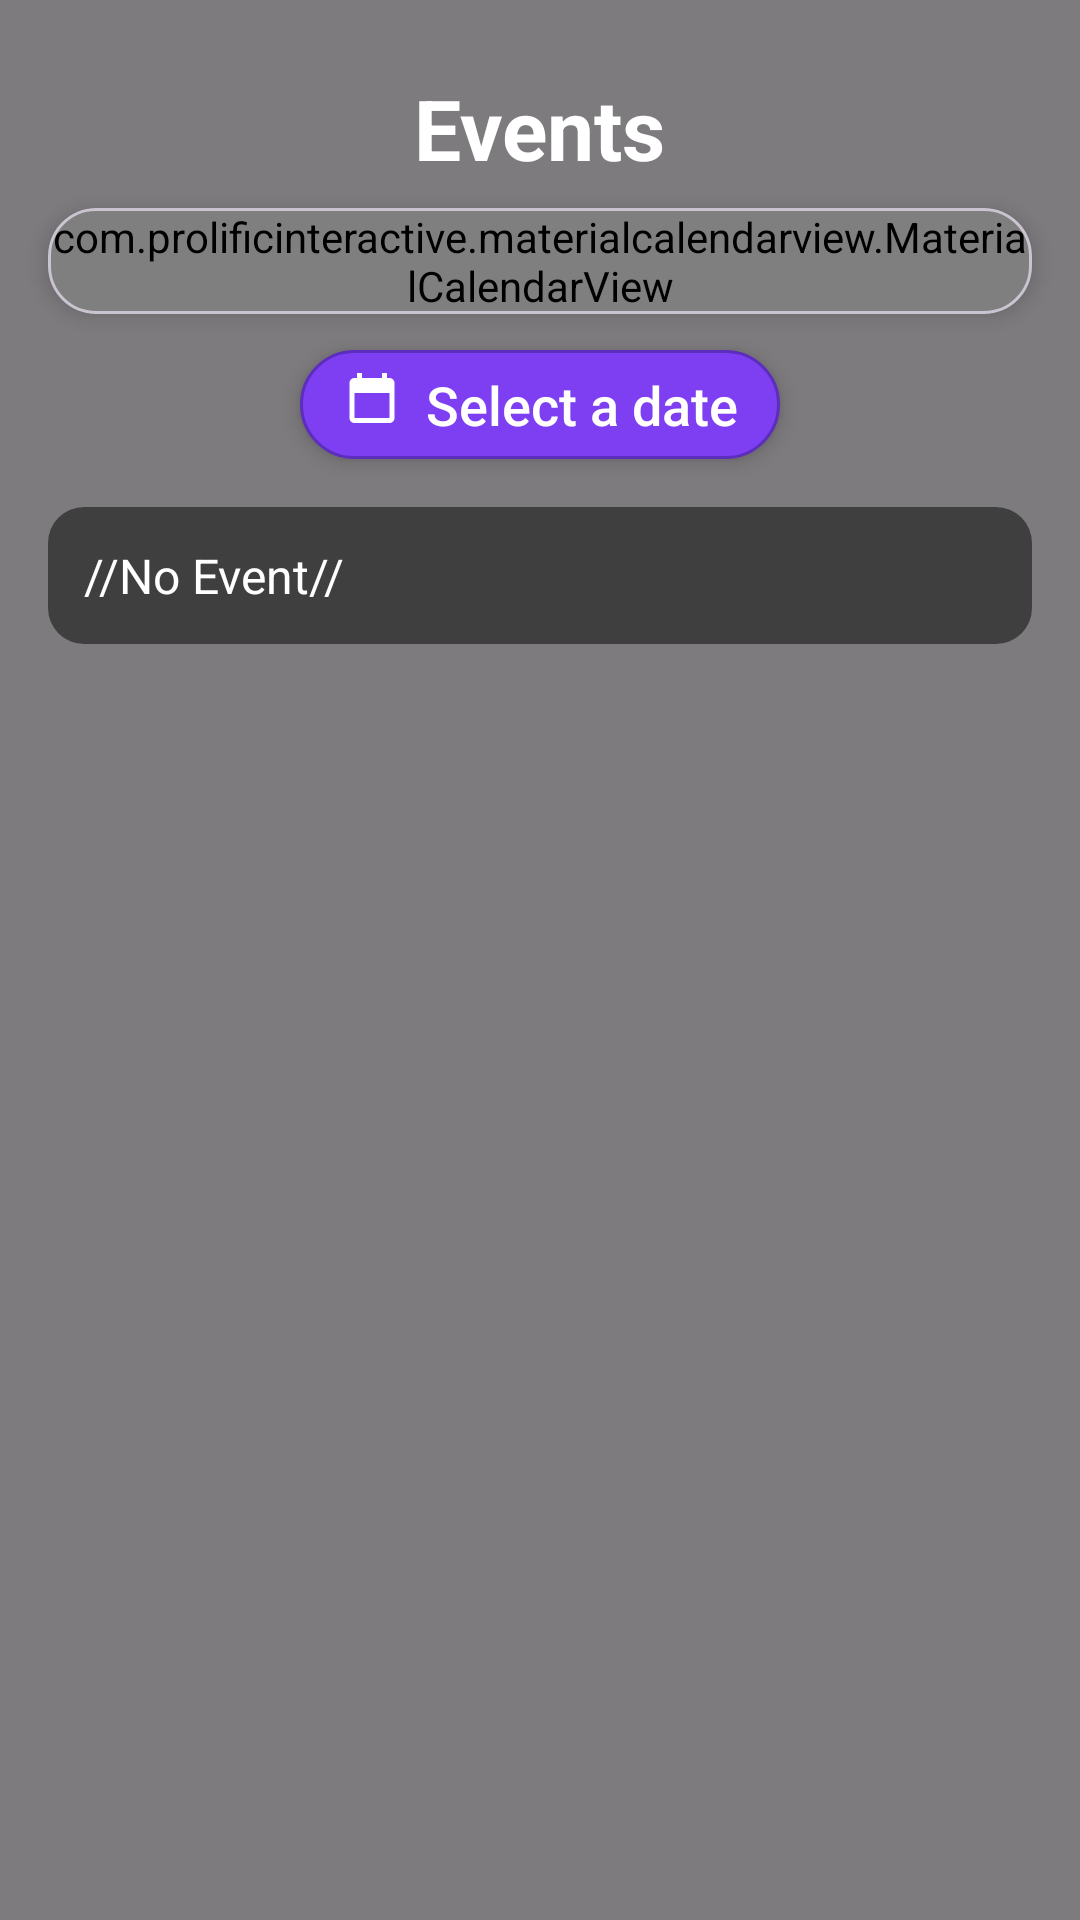

Icon click points for this 1080×1920 phone screenshot, format (x=x, y=y):
calendar today: (x=372, y=398)
